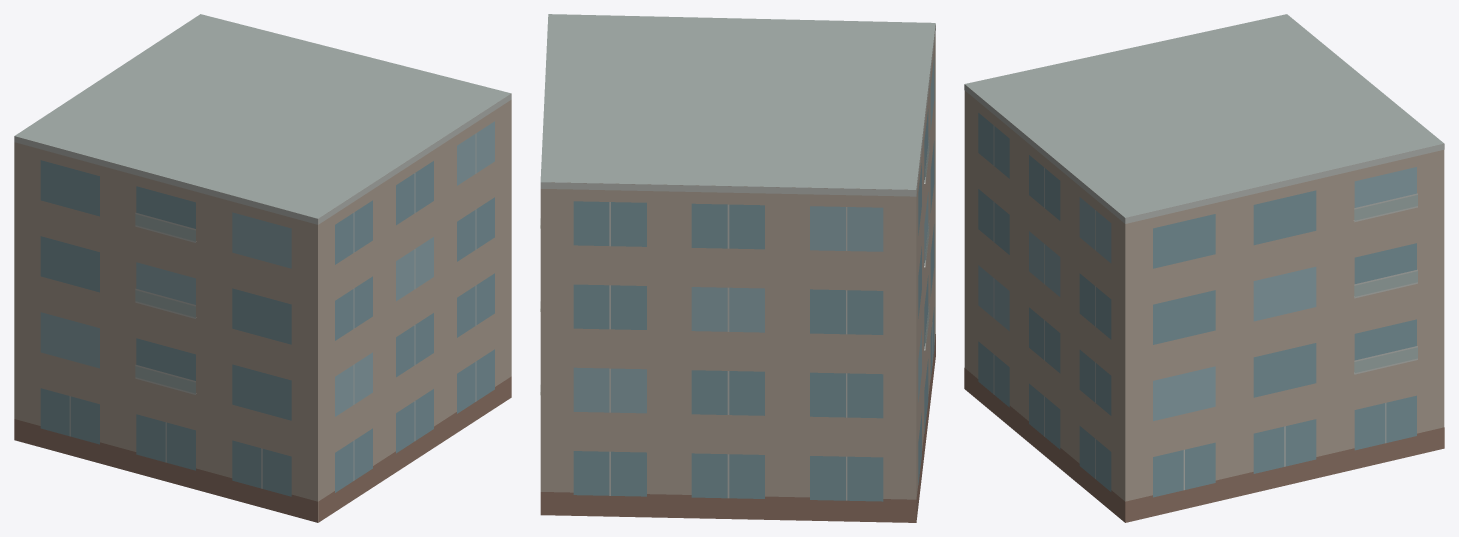
Rendered from survey-upis-32835892.glb.
3 views of the same model, side by side, from view 1: azimuth 30°, elevation 25°; view 2: azimuth 150°, elevation 25°; view 3: azimuth 270°, elevation 25° (orthographic). The views are drawn at different scales.
Visible parts, largest first — view 1: survey-upis-32835892.tmp; view 2: survey-upis-32835892.tmp; view 3: survey-upis-32835892.tmp.
Boxes of the visible parts, x1,y1,x2,y2 form: survey-upis-32835892.tmp: (14,14,511,522); survey-upis-32835892.tmp: (540,14,935,522); survey-upis-32835892.tmp: (964,14,1444,522).
Size of the model in its own units: 17.51 by 12.2 by 17.41.
